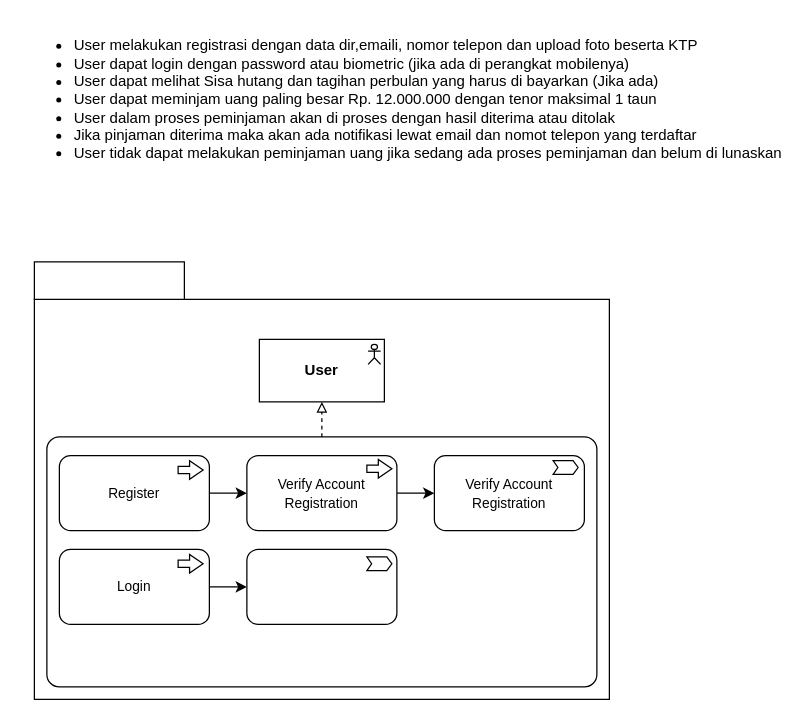
Image size: 805x721. Some labels were removed from this diagram. The shapes that lost their labels are listed below. From the top down, each one's centre as x and y in pixels, then its label:
At pixel 108 280: "Business Layer".
At pixel 321 586: "Management Peminjaman Online".
